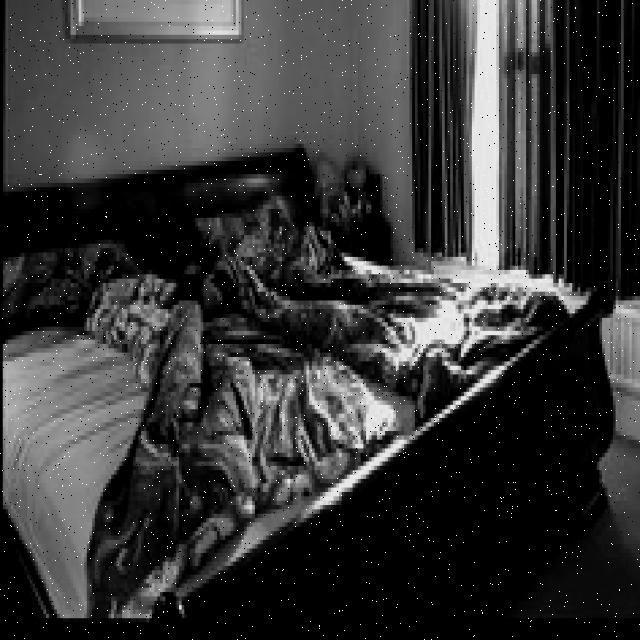bed: (3, 181, 595, 580)
